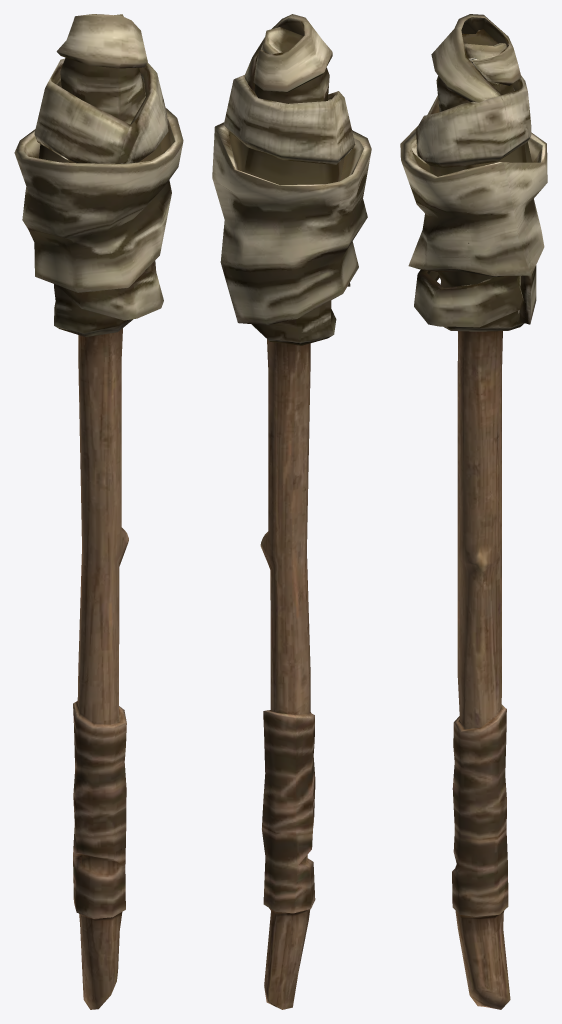
3 renders of one model, left to right at view 1: azimuth 30°, elevation 25°; view 2: azimuth 150°, elevation 25°; view 3: azimuth 270°, elevation 25°, orthographic. The views are drawn at different scales.
Parts seen in each view (by area): view 1: SM_Torch_1H_01_LOD0; view 2: SM_Torch_1H_01_LOD0; view 3: SM_Torch_1H_01_LOD0.
Part boxes in pixels (box(x1,y1,x2,y2)): SM_Torch_1H_01_LOD0: box(14, 14, 183, 1009); SM_Torch_1H_01_LOD0: box(212, 14, 371, 1009); SM_Torch_1H_01_LOD0: box(400, 14, 547, 1009).
Bounding box in the file's own units: 0.1357 × 0.9051 × 0.1222.
1 material, 1 textured.
